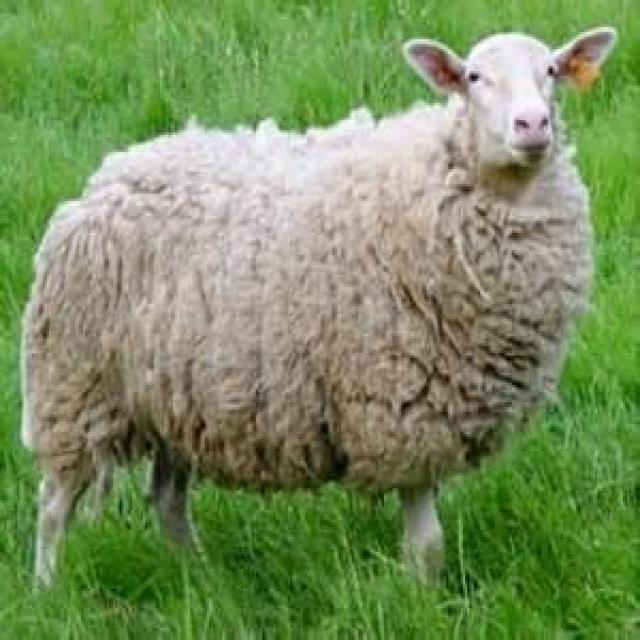animal: (22, 26, 619, 584)
